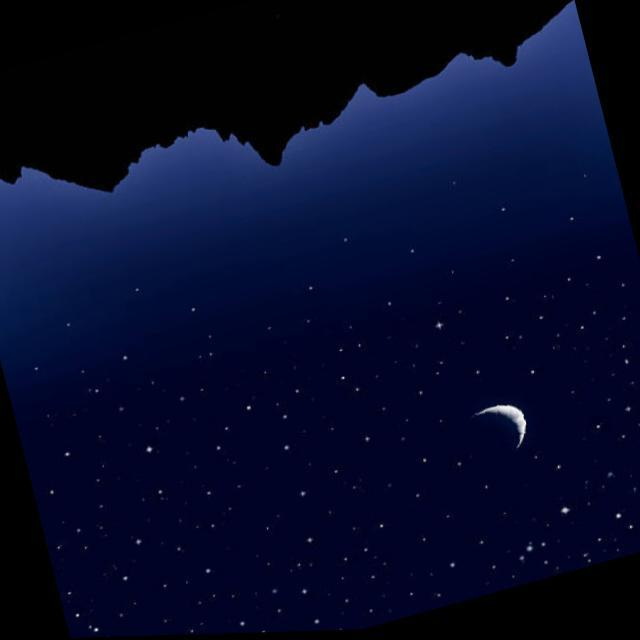moon: (448, 398, 534, 467)
